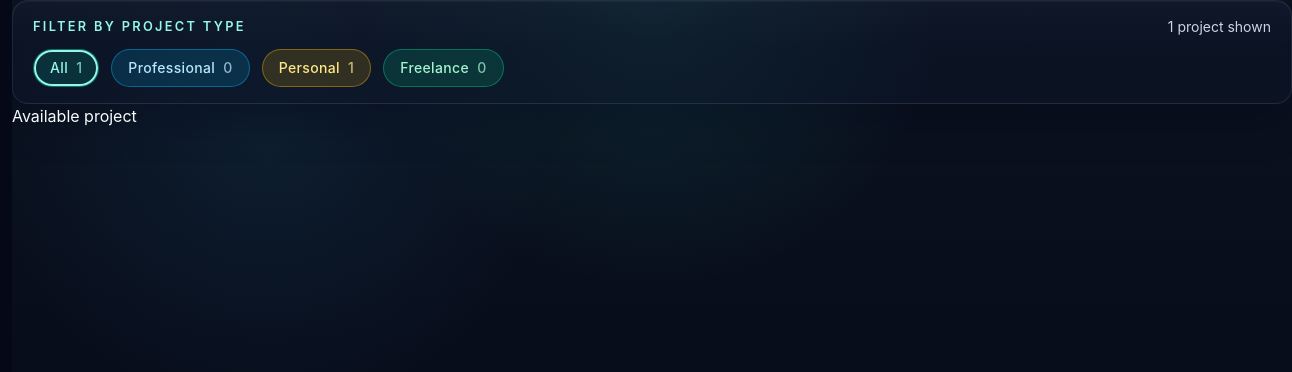
Scenario: explains an empty project category and lets All restore the cards
The image size is (1292, 372).
Click the button "Freelance 0" at (443,68), box [383,49,504,87]
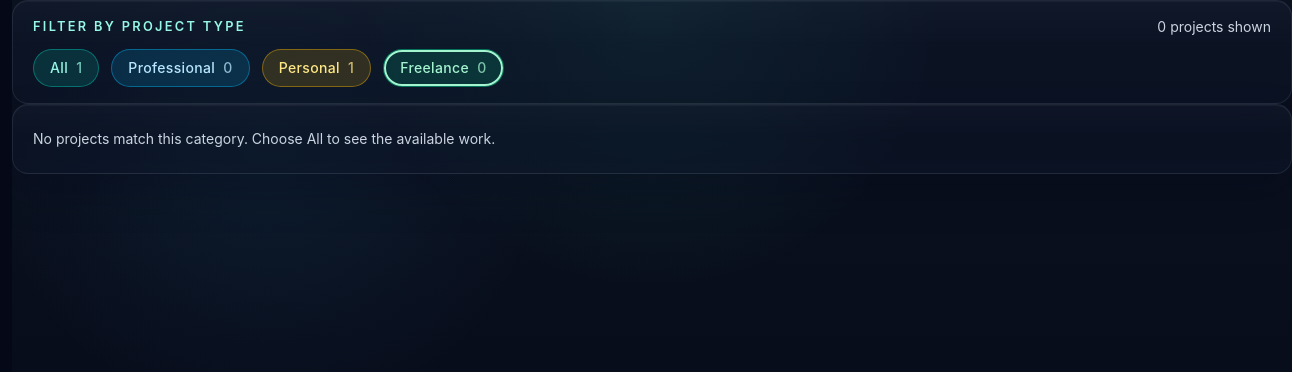
Result: the message shows "No projects match this category" at [33,130,495,147]
Result: the text "Available project" is gone
Click the button "All 1" at (66,68), box [33,49,99,87]
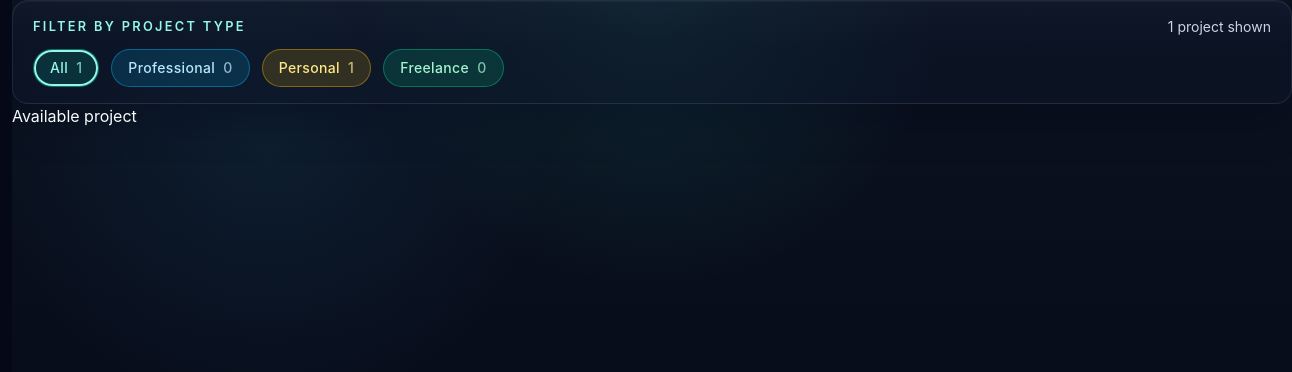
Result: the text "Available project" is shown at [12,106,137,126]
